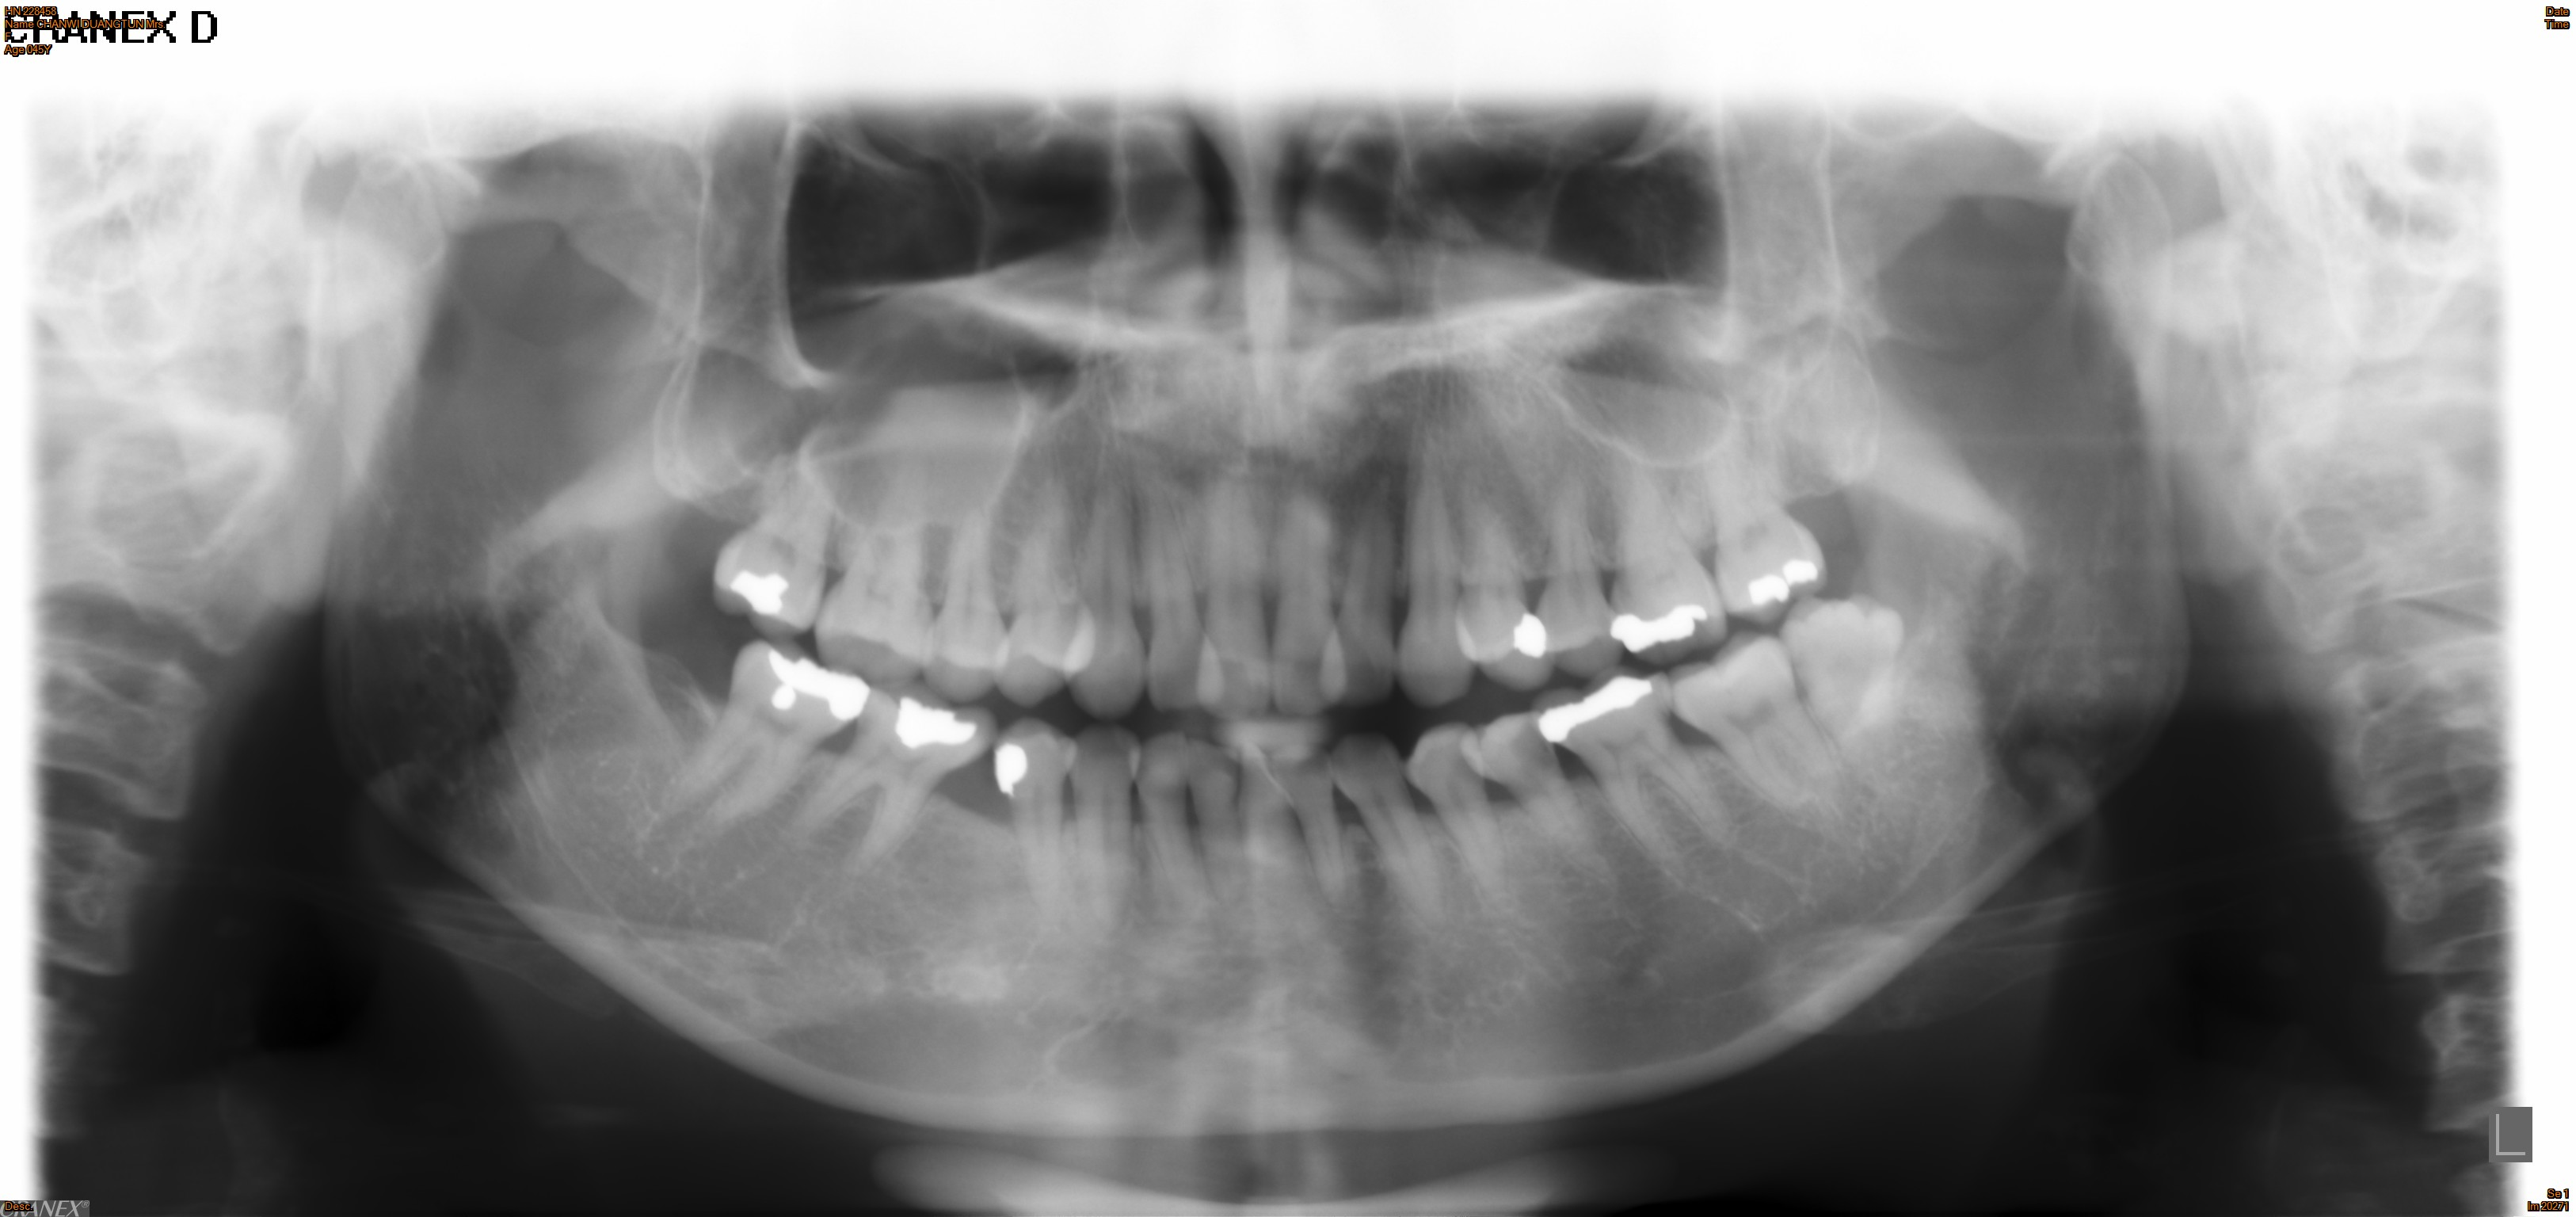periodontitis: (609, 636, 874, 857), (1529, 672, 1750, 898), (767, 680, 999, 880)
